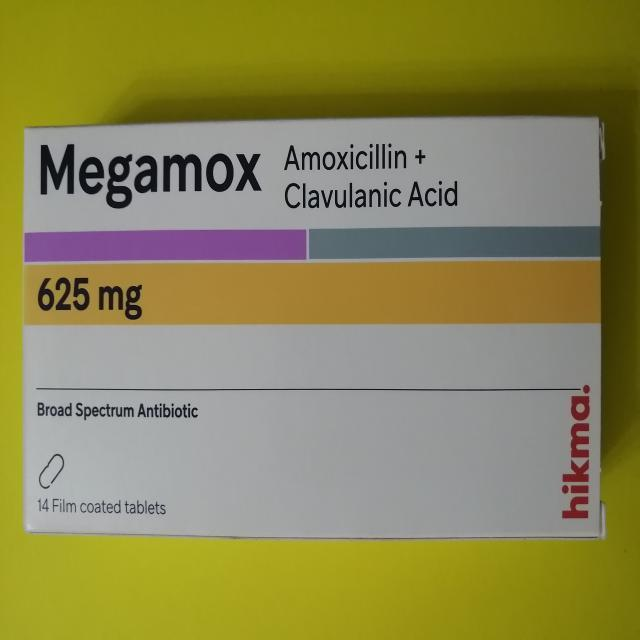Medicine Name: (34, 129, 269, 219)
